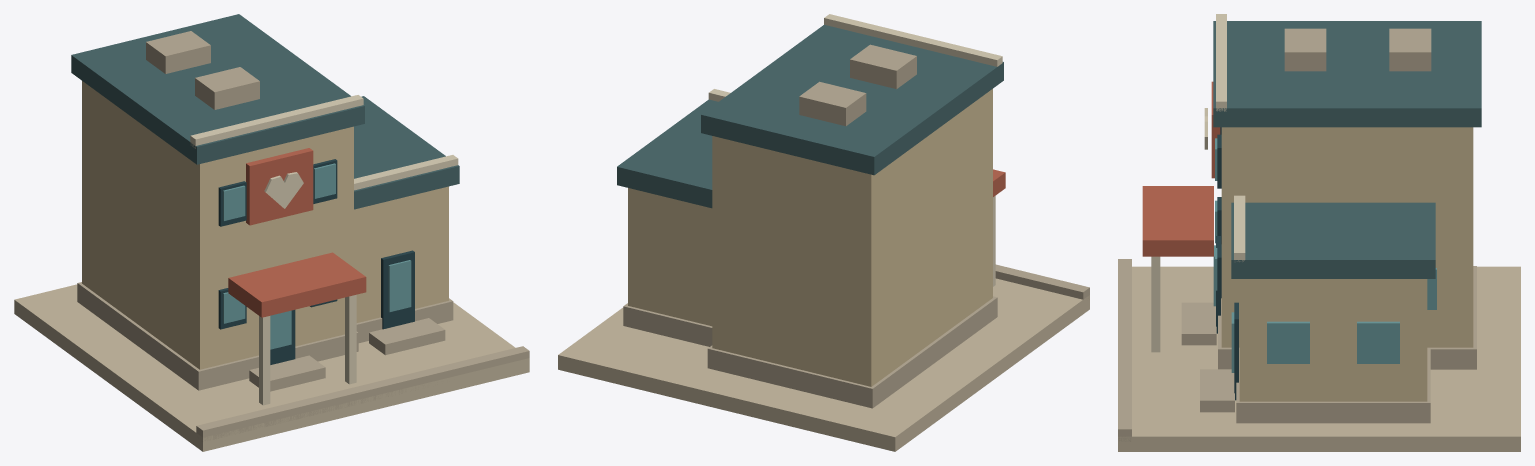
Rendered from hospital-complete.glb.
3 views of the same model, side by side, from view 1: azimuth 30°, elevation 25°; view 2: azimuth 150°, elevation 25°; view 3: azimuth 270°, elevation 25° (orthographic). The views are drawn at different scales.
Parts seen in each view (by area): view 1: hospital; view 2: hospital; view 3: hospital.
Part boxes in pixels (<box>): hospital: <box>14,14,529,451</box>; hospital: <box>558,14,1089,451</box>; hospital: <box>1118,14,1520,451</box>.
Bounding box in the file's own units: 2.88 × 2.37 × 2.88.
